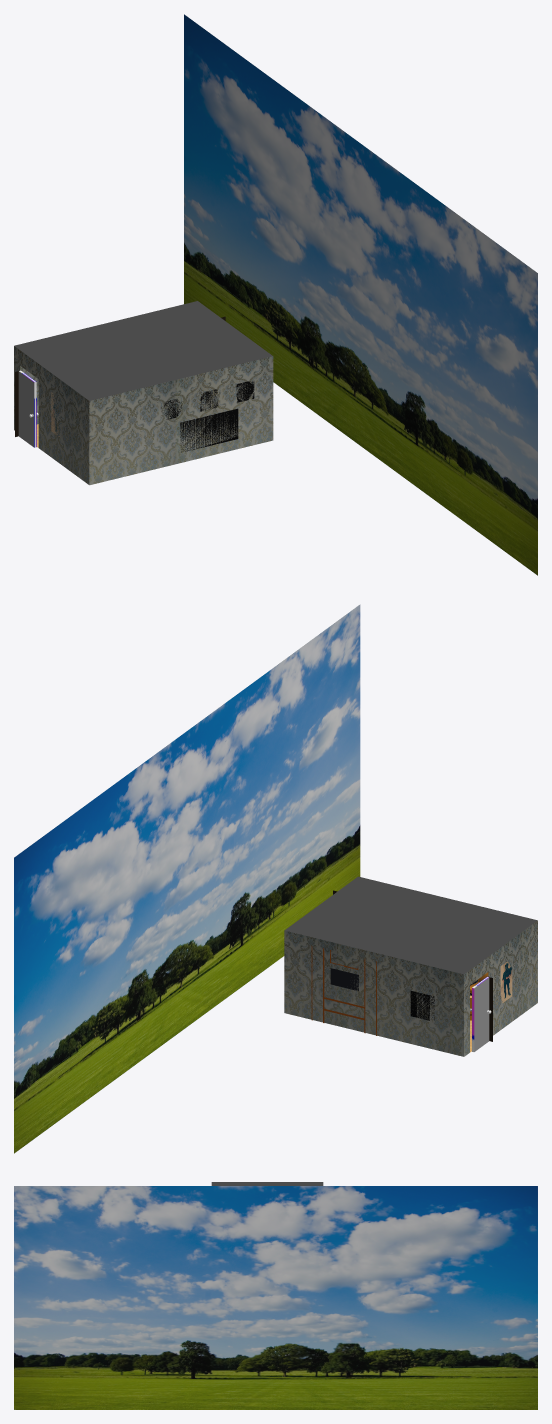
The model's file is room.obj.
The picture shows the model from 3 angles, top to bottom: view 1: azimuth 30°, elevation 25°; view 2: azimuth 150°, elevation 25°; view 3: azimuth 270°, elevation 25°; orthographic projection. The views are drawn at different scales.
Parts seen in each view (by area): view 1: skybox, walls, bed, door_front; view 2: skybox, walls, door_front, tv_shelf; view 3: skybox, walls.
Part boxes in pixels (x1,y1,x2,y2): skybox: [184, 14, 537, 575]; walls: [14, 301, 273, 485]; bed: [180, 408, 238, 452]; door_front: [18, 371, 34, 447]; skybox: [14, 604, 360, 1153]; walls: [284, 876, 537, 1056]; door_front: [474, 977, 489, 1051]; tv_shelf: [311, 945, 376, 1035]; skybox: [14, 1186, 537, 1409]; walls: [211, 1182, 323, 1185].
Bounding box in the file's own units: 10.73 × 9.65 × 20.47.
